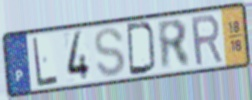4: (65, 29, 92, 85)
D: (125, 21, 159, 77)
L: (31, 35, 60, 89)
R: (188, 12, 225, 69), (155, 18, 193, 73)
S: (93, 26, 127, 80)
